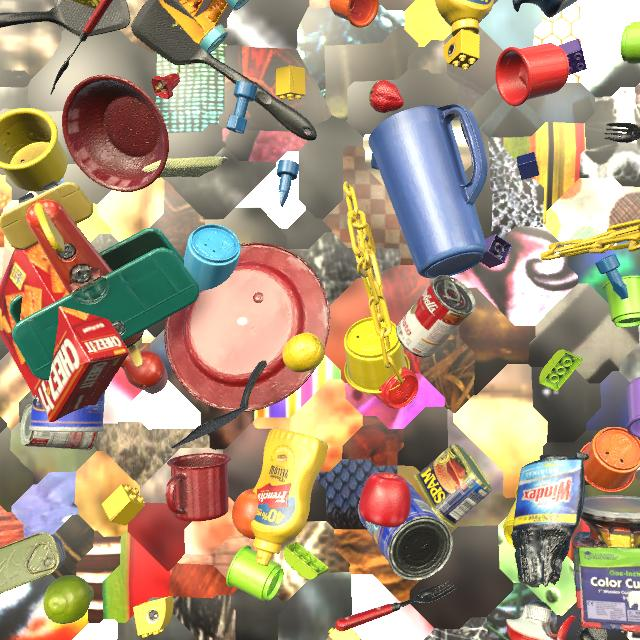ycb_002_master_chef_can: (358, 480, 453, 581), (29, 392, 105, 432)
ycb_003_cracker_box: (0, 243, 129, 422)
ycb_005_tomato_soup_can: (396, 275, 476, 357), (20, 403, 98, 450)
ycb_006_mustard_bottle: (251, 429, 328, 566), (435, 0, 494, 37)
ycb_010_potted_meat_can: (414, 443, 492, 528), (0, 532, 66, 594)
ycb_012_strawberry: (369, 80, 404, 113)
ycb_013_apple: (359, 473, 411, 528)
ycb_014_lemon: (282, 333, 325, 372)
ycb_016_pear: (43, 575, 94, 624)
ycb_017_orange: (232, 488, 258, 539)
